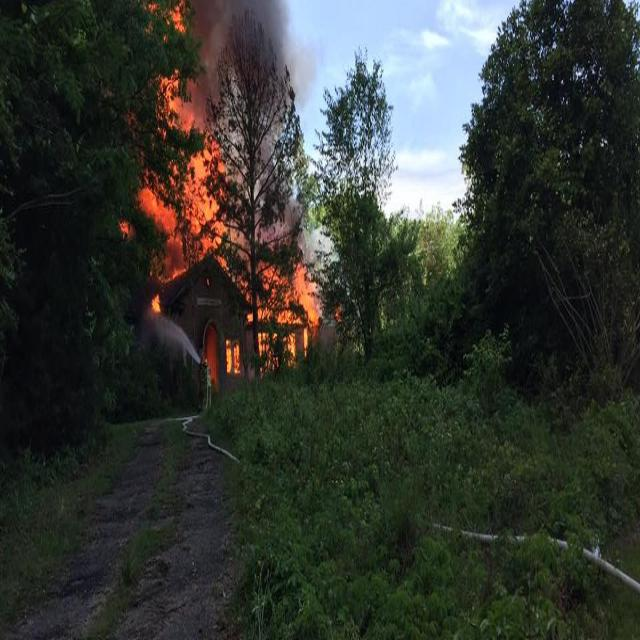fire: (149, 148, 227, 268), (256, 263, 319, 370)
